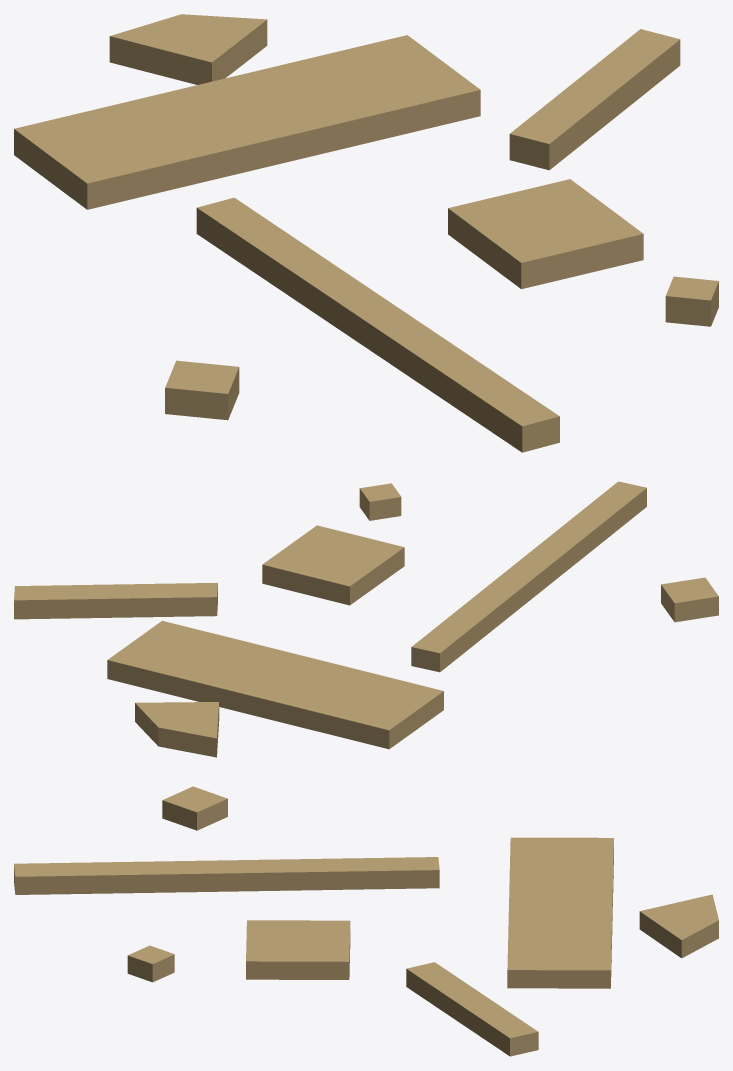
The model's file is SM_Env_Rubble_01.fbx.
3 views of the same model, one above another, from view 1: azimuth 30°, elevation 25°; view 2: azimuth 150°, elevation 25°; view 3: azimuth 270°, elevation 25° (orthographic). The views are drawn at different scales.
Parts seen in each view (by area): view 1: SM_Env_Rubble_01; view 2: SM_Env_Rubble_01; view 3: SM_Env_Rubble_01.
Boxes of the visible parts, x1=… form: SM_Env_Rubble_01: x1=14, y1=14, x2=718, y2=452; SM_Env_Rubble_01: x1=14, y1=481, x2=718, y2=757; SM_Env_Rubble_01: x1=14, y1=786, x2=718, y2=1056.
Size of the model in its own units: 7.86 by 0.2654 by 9.29.
